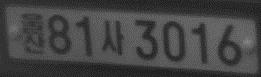0: (162, 19, 186, 62)
1: (189, 21, 209, 66), (75, 15, 94, 58)
3: (133, 17, 160, 61)
6: (216, 19, 243, 67)
8: (47, 13, 72, 55)
사: (98, 17, 124, 58)
울산_V: (20, 10, 45, 56)
